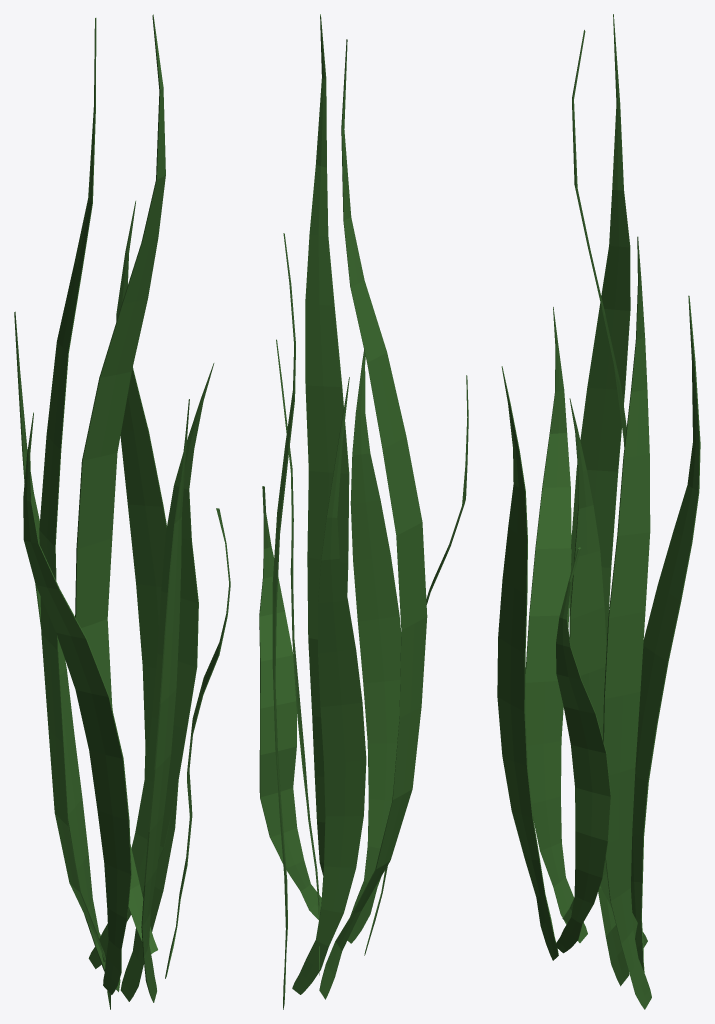
File: Plant_A.fbx
3 renders of one model, left to right at view 1: azimuth 30°, elevation 25°; view 2: azimuth 150°, elevation 25°; view 3: azimuth 270°, elevation 25°, orthographic. The views are drawn at different scales.
Parts seen in each view (by area): view 1: Plant_A; view 2: Plant_A; view 3: Plant_A.
Boxes of the visible parts, left/top/right/bottom form: Plant_A: left=14, top=14, right=230, bottom=1009; Plant_A: left=259, top=14, right=468, bottom=1009; Plant_A: left=497, top=14, right=700, bottom=1009.
Bounding box in the file's own units: 43.31 × 201 × 37.89.
1 material, 1 textured.
